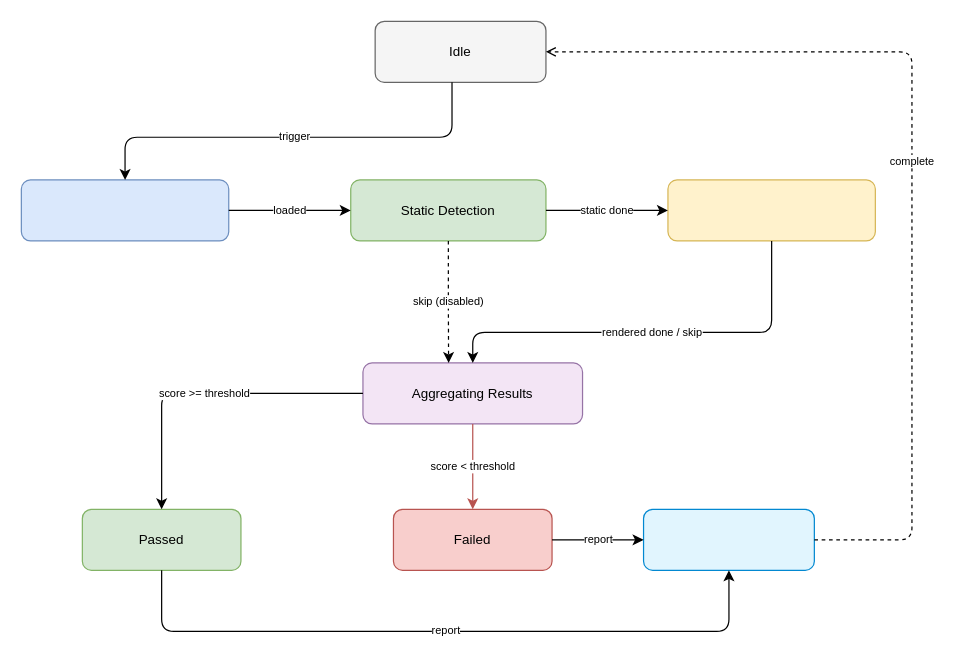
Some shapes in this 955 by 662 pixel diagram are drawn without their labels. Here are the shapes that lost their labels. From the top down, the centre of each, then its label:
the point at 124,210: Loading Skill & WASM
the point at 771,210: Rendered Detection
the point at 728,539: Reporting
